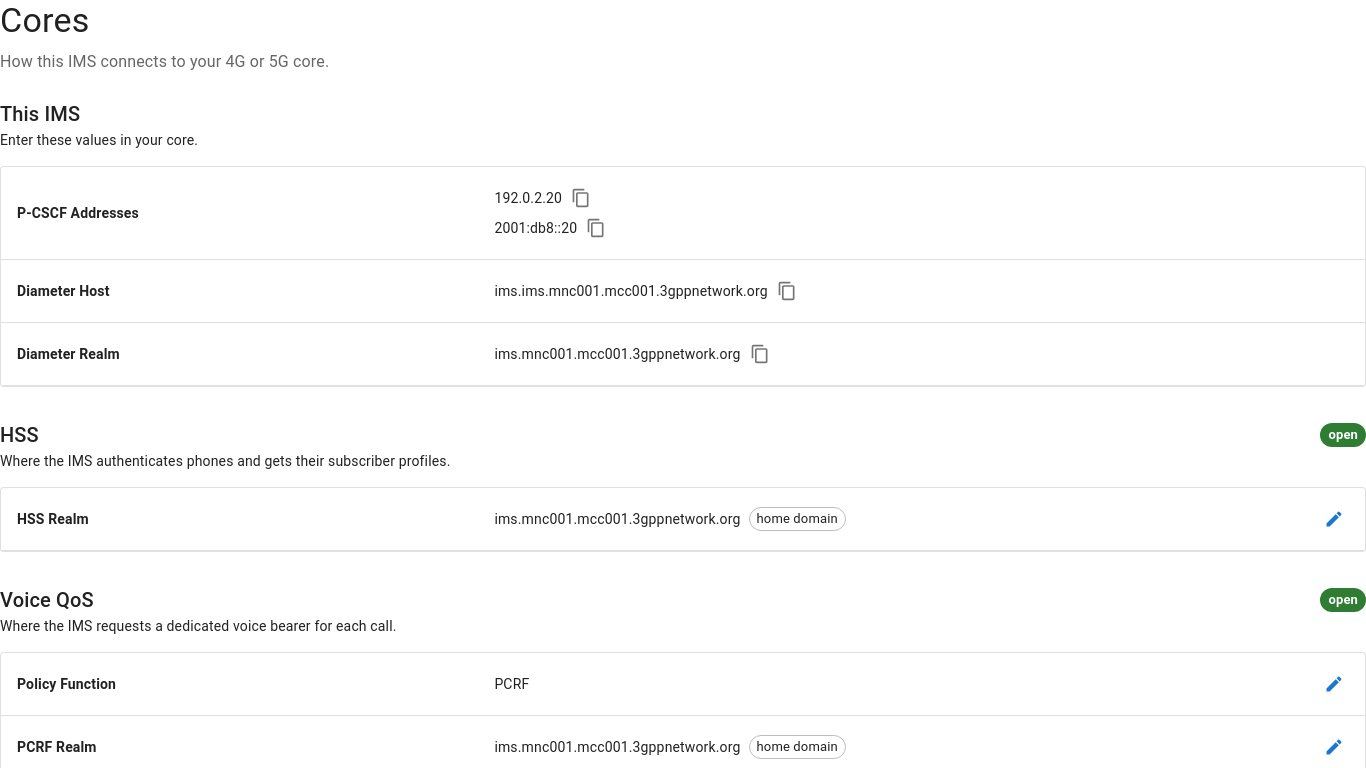
Scenario: Cores › sets the realm of the PCRF
Step 1. Click the button named "Edit PCRF Realm" → (1334, 747), box top-left (1319, 732), bottom-right (1349, 762)
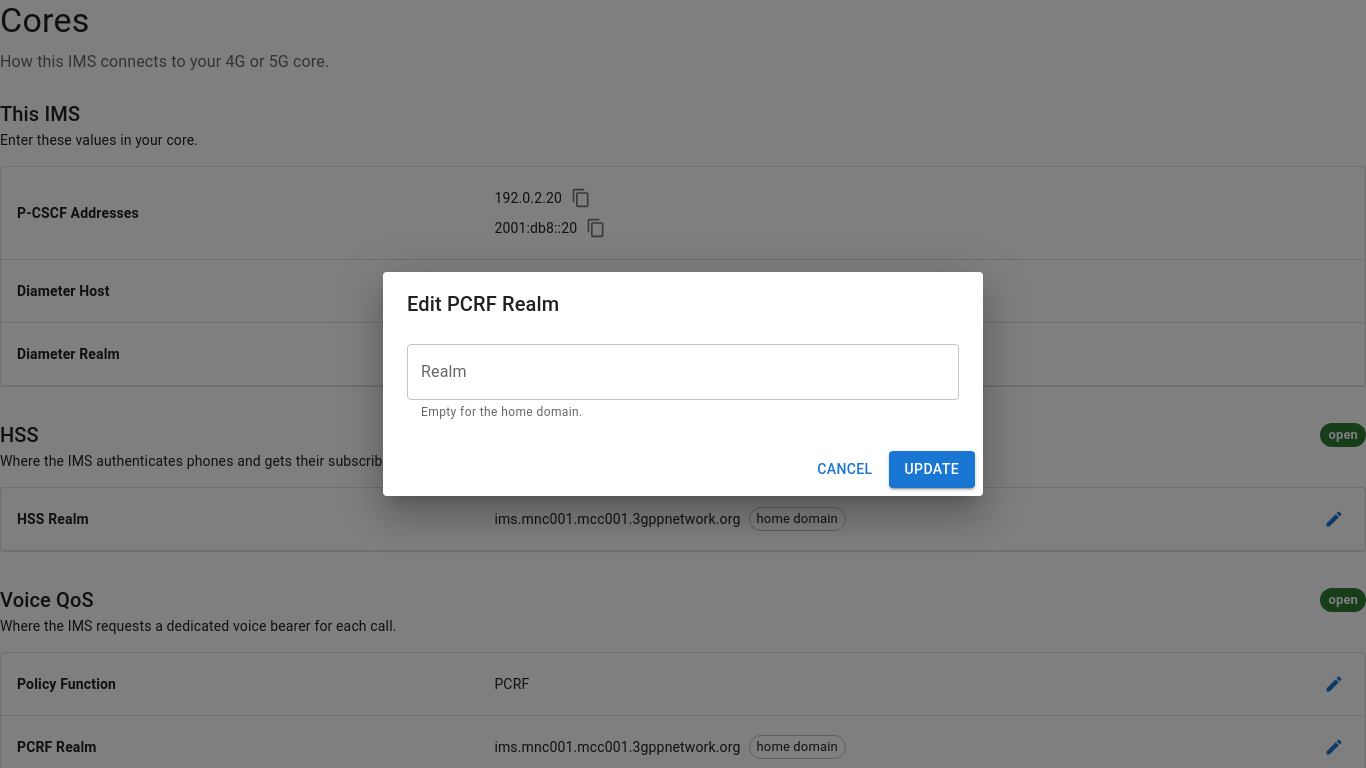
Step 2. Type "bad realm" into the field labelled "Realm" → (683, 372), box top-left (407, 344), bottom-right (959, 400)
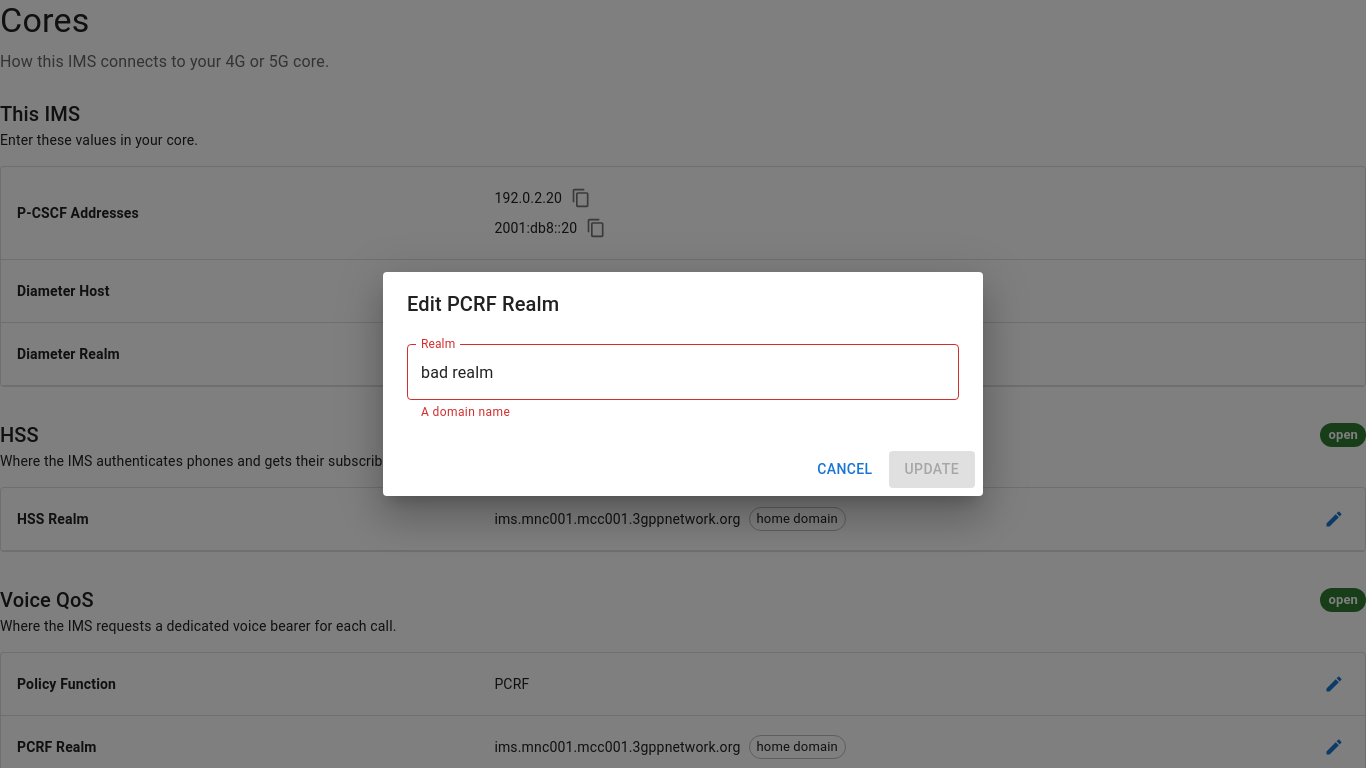
Check: the text "A domain name" is shown, box top-left (421, 405), bottom-right (510, 419)
Check: the button "Update" is disabled, box top-left (889, 451), bottom-right (975, 488)
Step 3. Replace the text in the field labelled "Realm" with "epc.mnc001.mcc001.3gppnetwork.org" → (683, 372), box top-left (407, 344), bottom-right (959, 400)
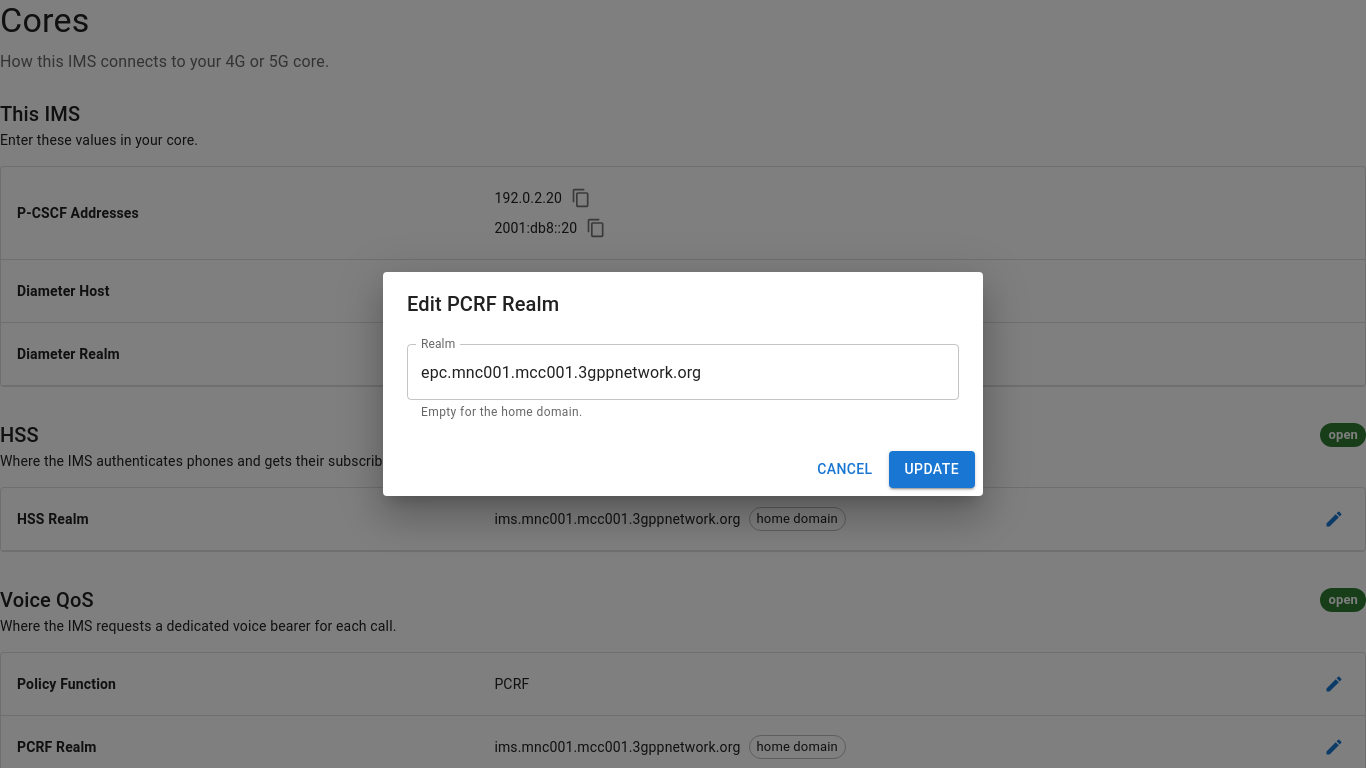
Step 4. Click the button "Update" → (932, 469), box top-left (889, 451), bottom-right (975, 488)
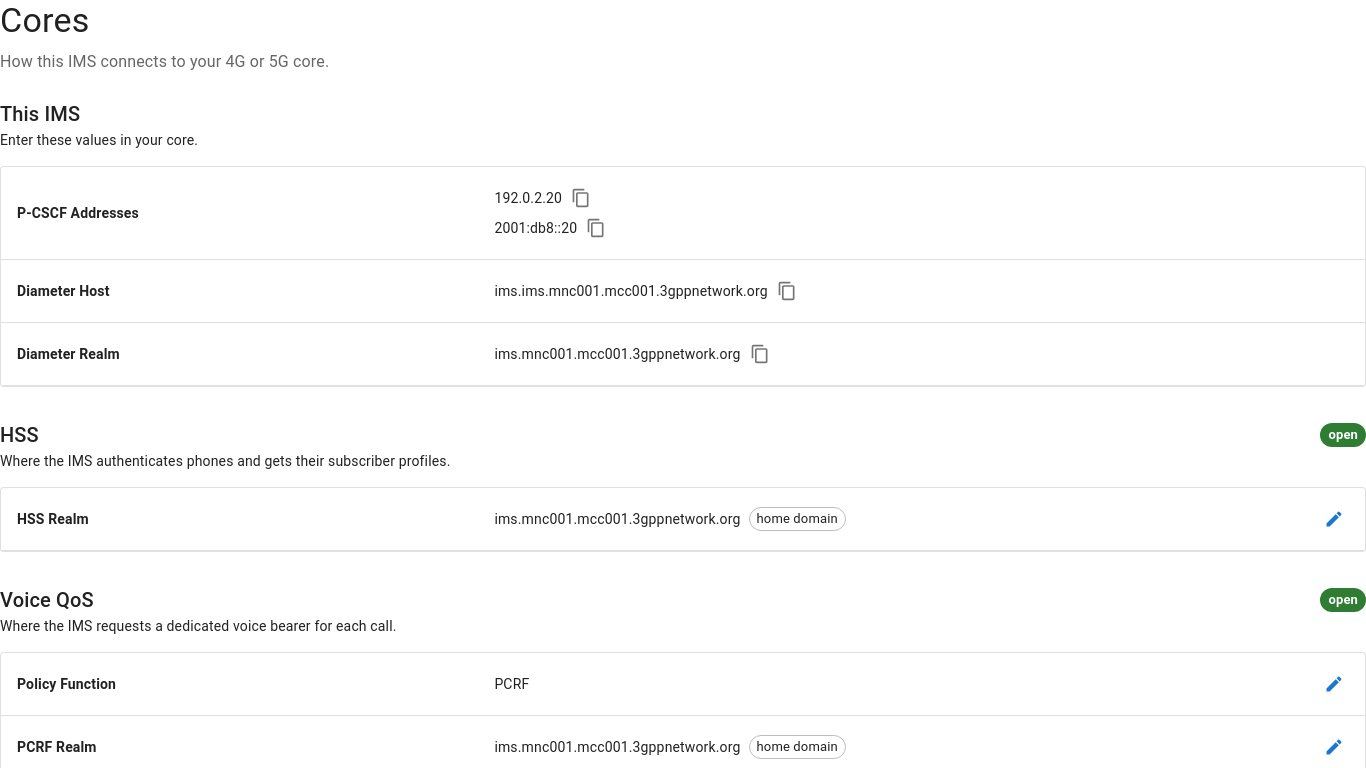
Check: the dialog is gone
